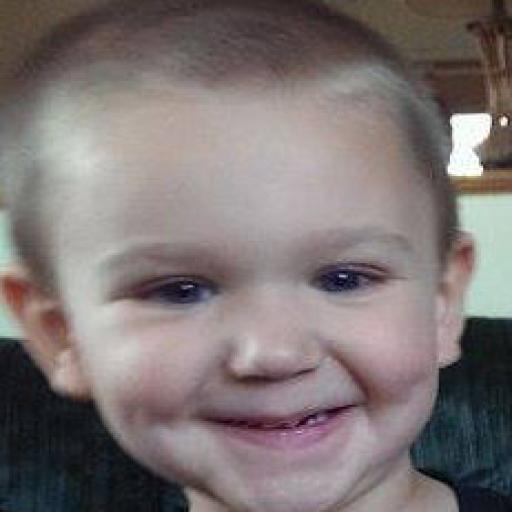Autism: (16, 36, 488, 512)
